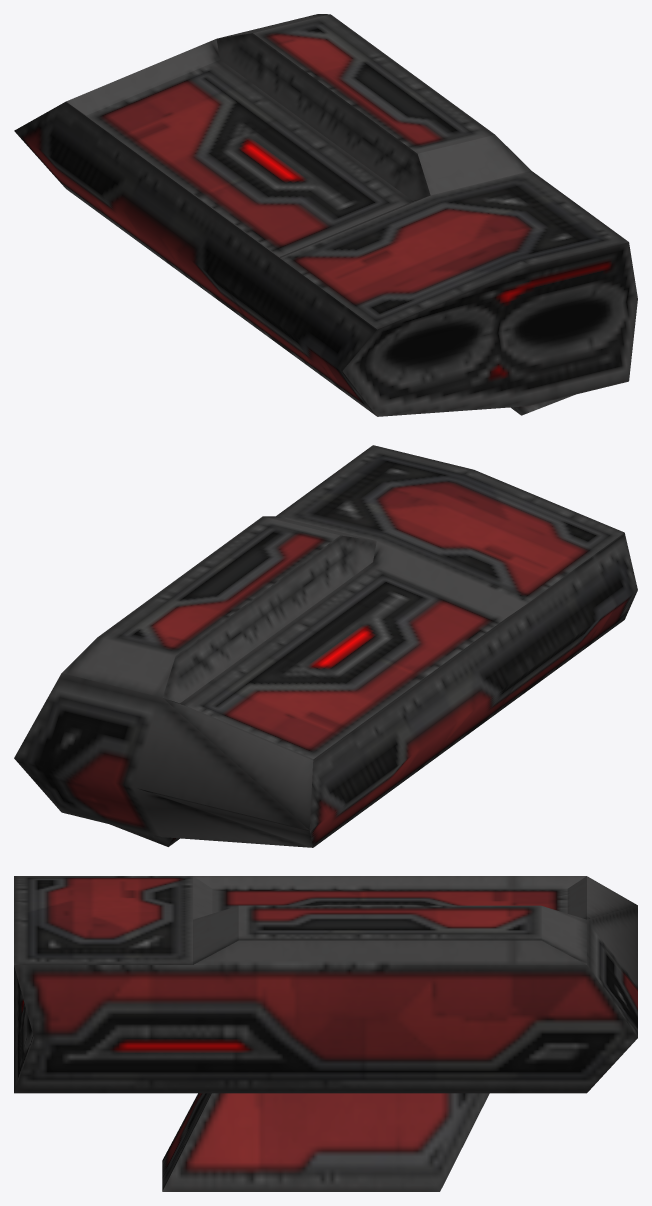
Rendered from BFP_TorpedoBay_UpperRight.FBX.
The picture shows the model from 3 angles, top to bottom: view 1: azimuth 30°, elevation 25°; view 2: azimuth 150°, elevation 25°; view 3: azimuth 270°, elevation 25°; orthographic projection. The views are drawn at different scales.
Visible parts, largest first — view 1: BFP_TorpedoBay_UpperRight; view 2: BFP_TorpedoBay_UpperRight; view 3: BFP_TorpedoBay_UpperRight.
Part boxes in pixels (x1,y1,x2,y2): BFP_TorpedoBay_UpperRight: (14, 14, 637, 416); BFP_TorpedoBay_UpperRight: (14, 445, 637, 847); BFP_TorpedoBay_UpperRight: (14, 876, 637, 1191).
Bounding box in the file's own units: 349 × 237 × 591.
Materials: 1 (1 with a texture image).
